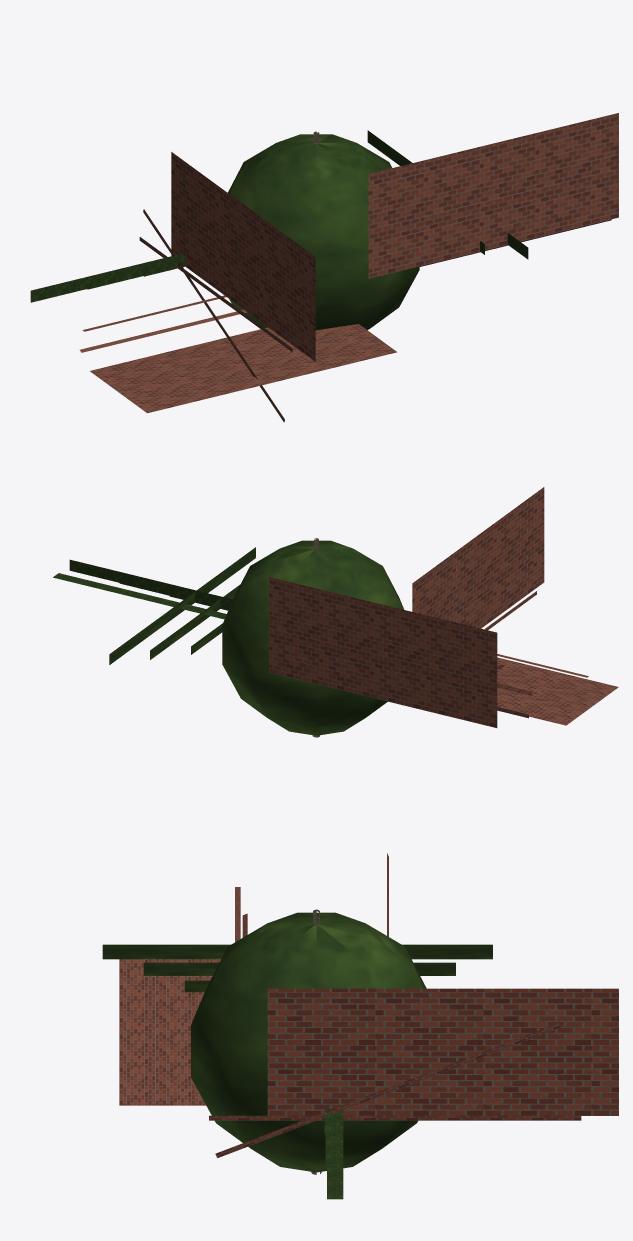
Rendered from props.glb.
3 views of the same model, one above another, from view 1: azimuth 30°, elevation 25°; view 2: azimuth 150°, elevation 25°; view 3: azimuth 270°, elevation 25° (orthographic). The views are drawn at different scales.
Parts seen in each view (by area): view 1: station-walls, tree-3, hedge-2, hedge-1; view 2: station-walls, tree-3, hedge-2, hedge-1, hedge-0; view 3: station-walls, tree-3, hedge-2, hedge-1.
Boxes of the visible parts, bbox=[...] form: station-walls: bbox=[80, 113, 618, 422]; tree-3: bbox=[228, 134, 419, 330]; hedge-2: bbox=[30, 130, 528, 302]; hedge-1: bbox=[87, 241, 484, 289]; station-walls: bbox=[269, 487, 618, 727]; tree-3: bbox=[222, 540, 404, 735]; hedge-2: bbox=[53, 547, 255, 664]; hedge-1: bbox=[119, 574, 240, 659]; hedge-0: bbox=[169, 588, 231, 654]; station-walls: bbox=[119, 853, 618, 1157]; tree-3: bbox=[191, 912, 426, 1172]; hedge-2: bbox=[102, 944, 492, 1199]; hedge-1: bbox=[143, 962, 455, 1167].
Size of the model in its own units: 20 by 7.4 by 15.5.
Materials: 7 (6 with a texture image).
